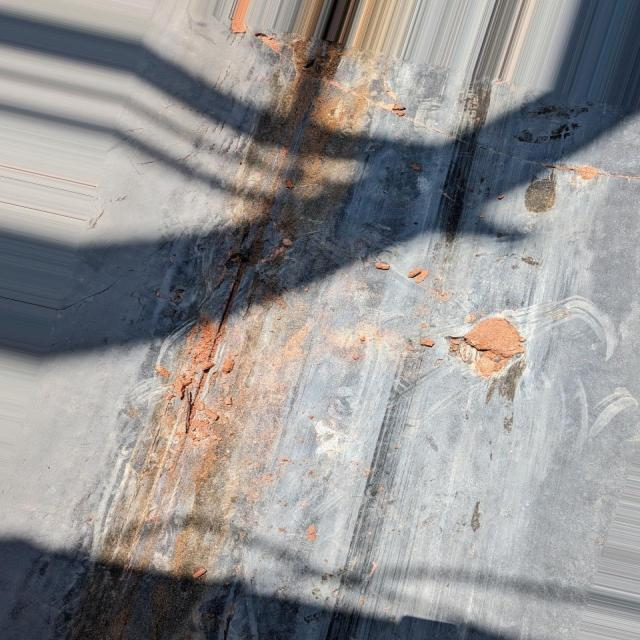Wear: (61, 60, 392, 640)
